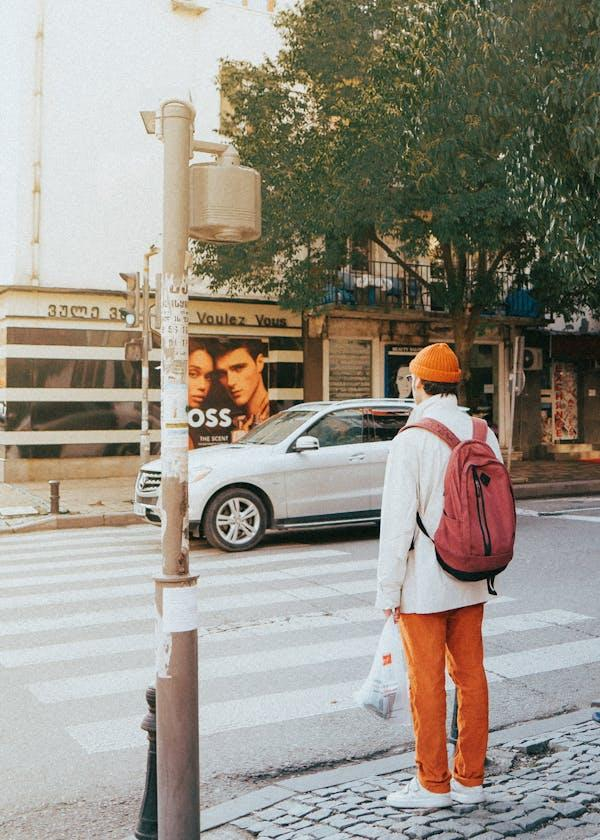Human: (343, 291, 540, 834)
